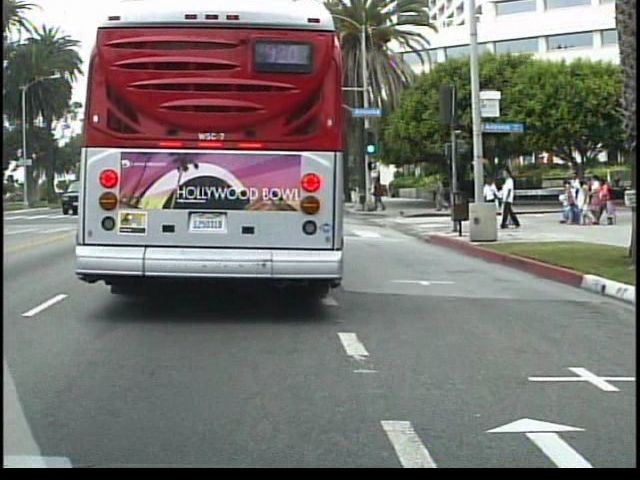person: (499, 165, 523, 234), (481, 174, 502, 226), (371, 176, 391, 216), (433, 174, 451, 215)
